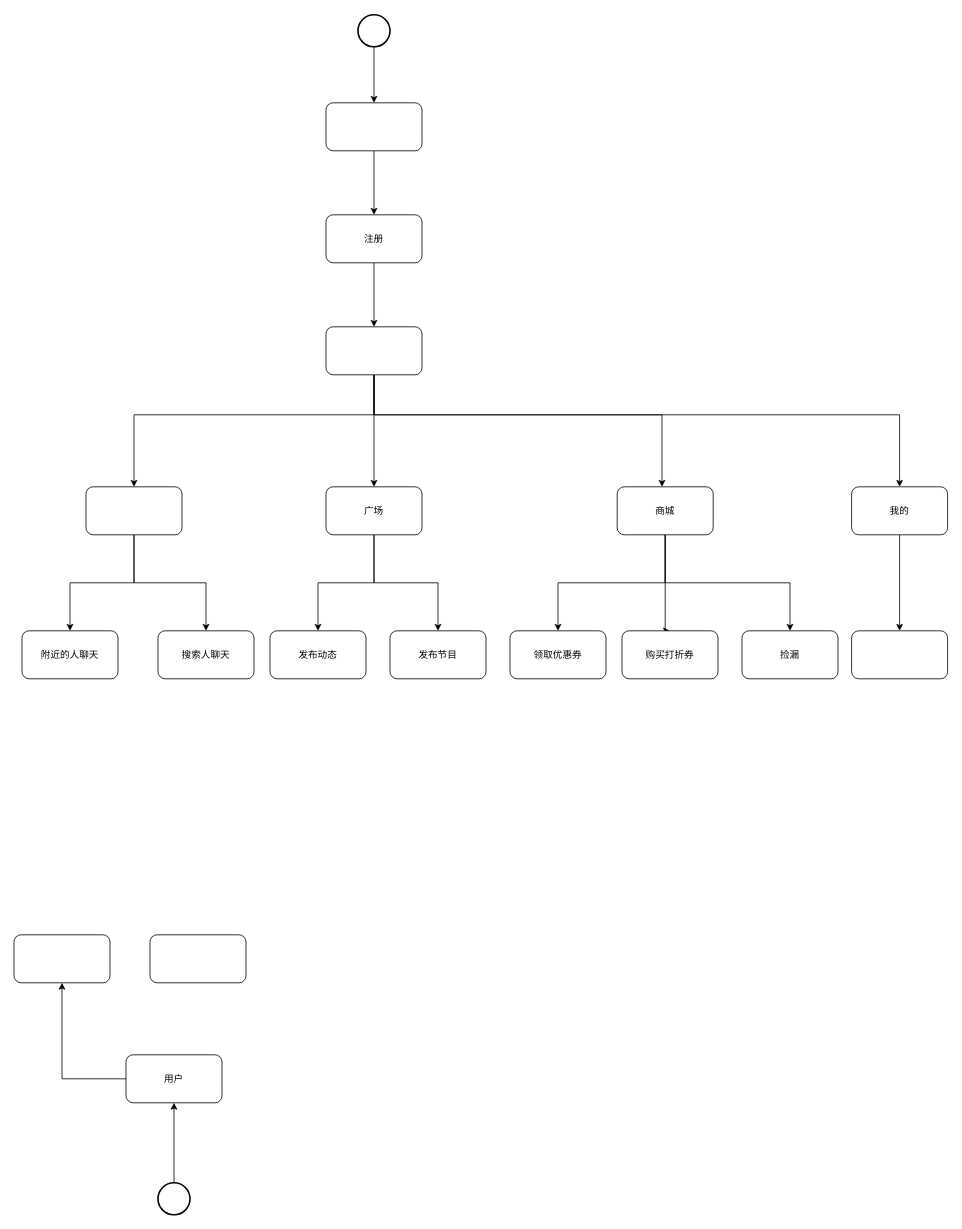
The diagram is 962 pixels wide and 1229 high, and some of its shapes have lost their labels. Here are the shapes that lost their labels. From the top down, the centre of each, then its label:
At point (373, 126): "首次下载APP".
At point (373, 350): "登录".
At point (133, 510): "聊天".
At point (899, 654): "购买会员".
At point (61, 958): "用户列表".
At point (197, 958): "会员管理".
